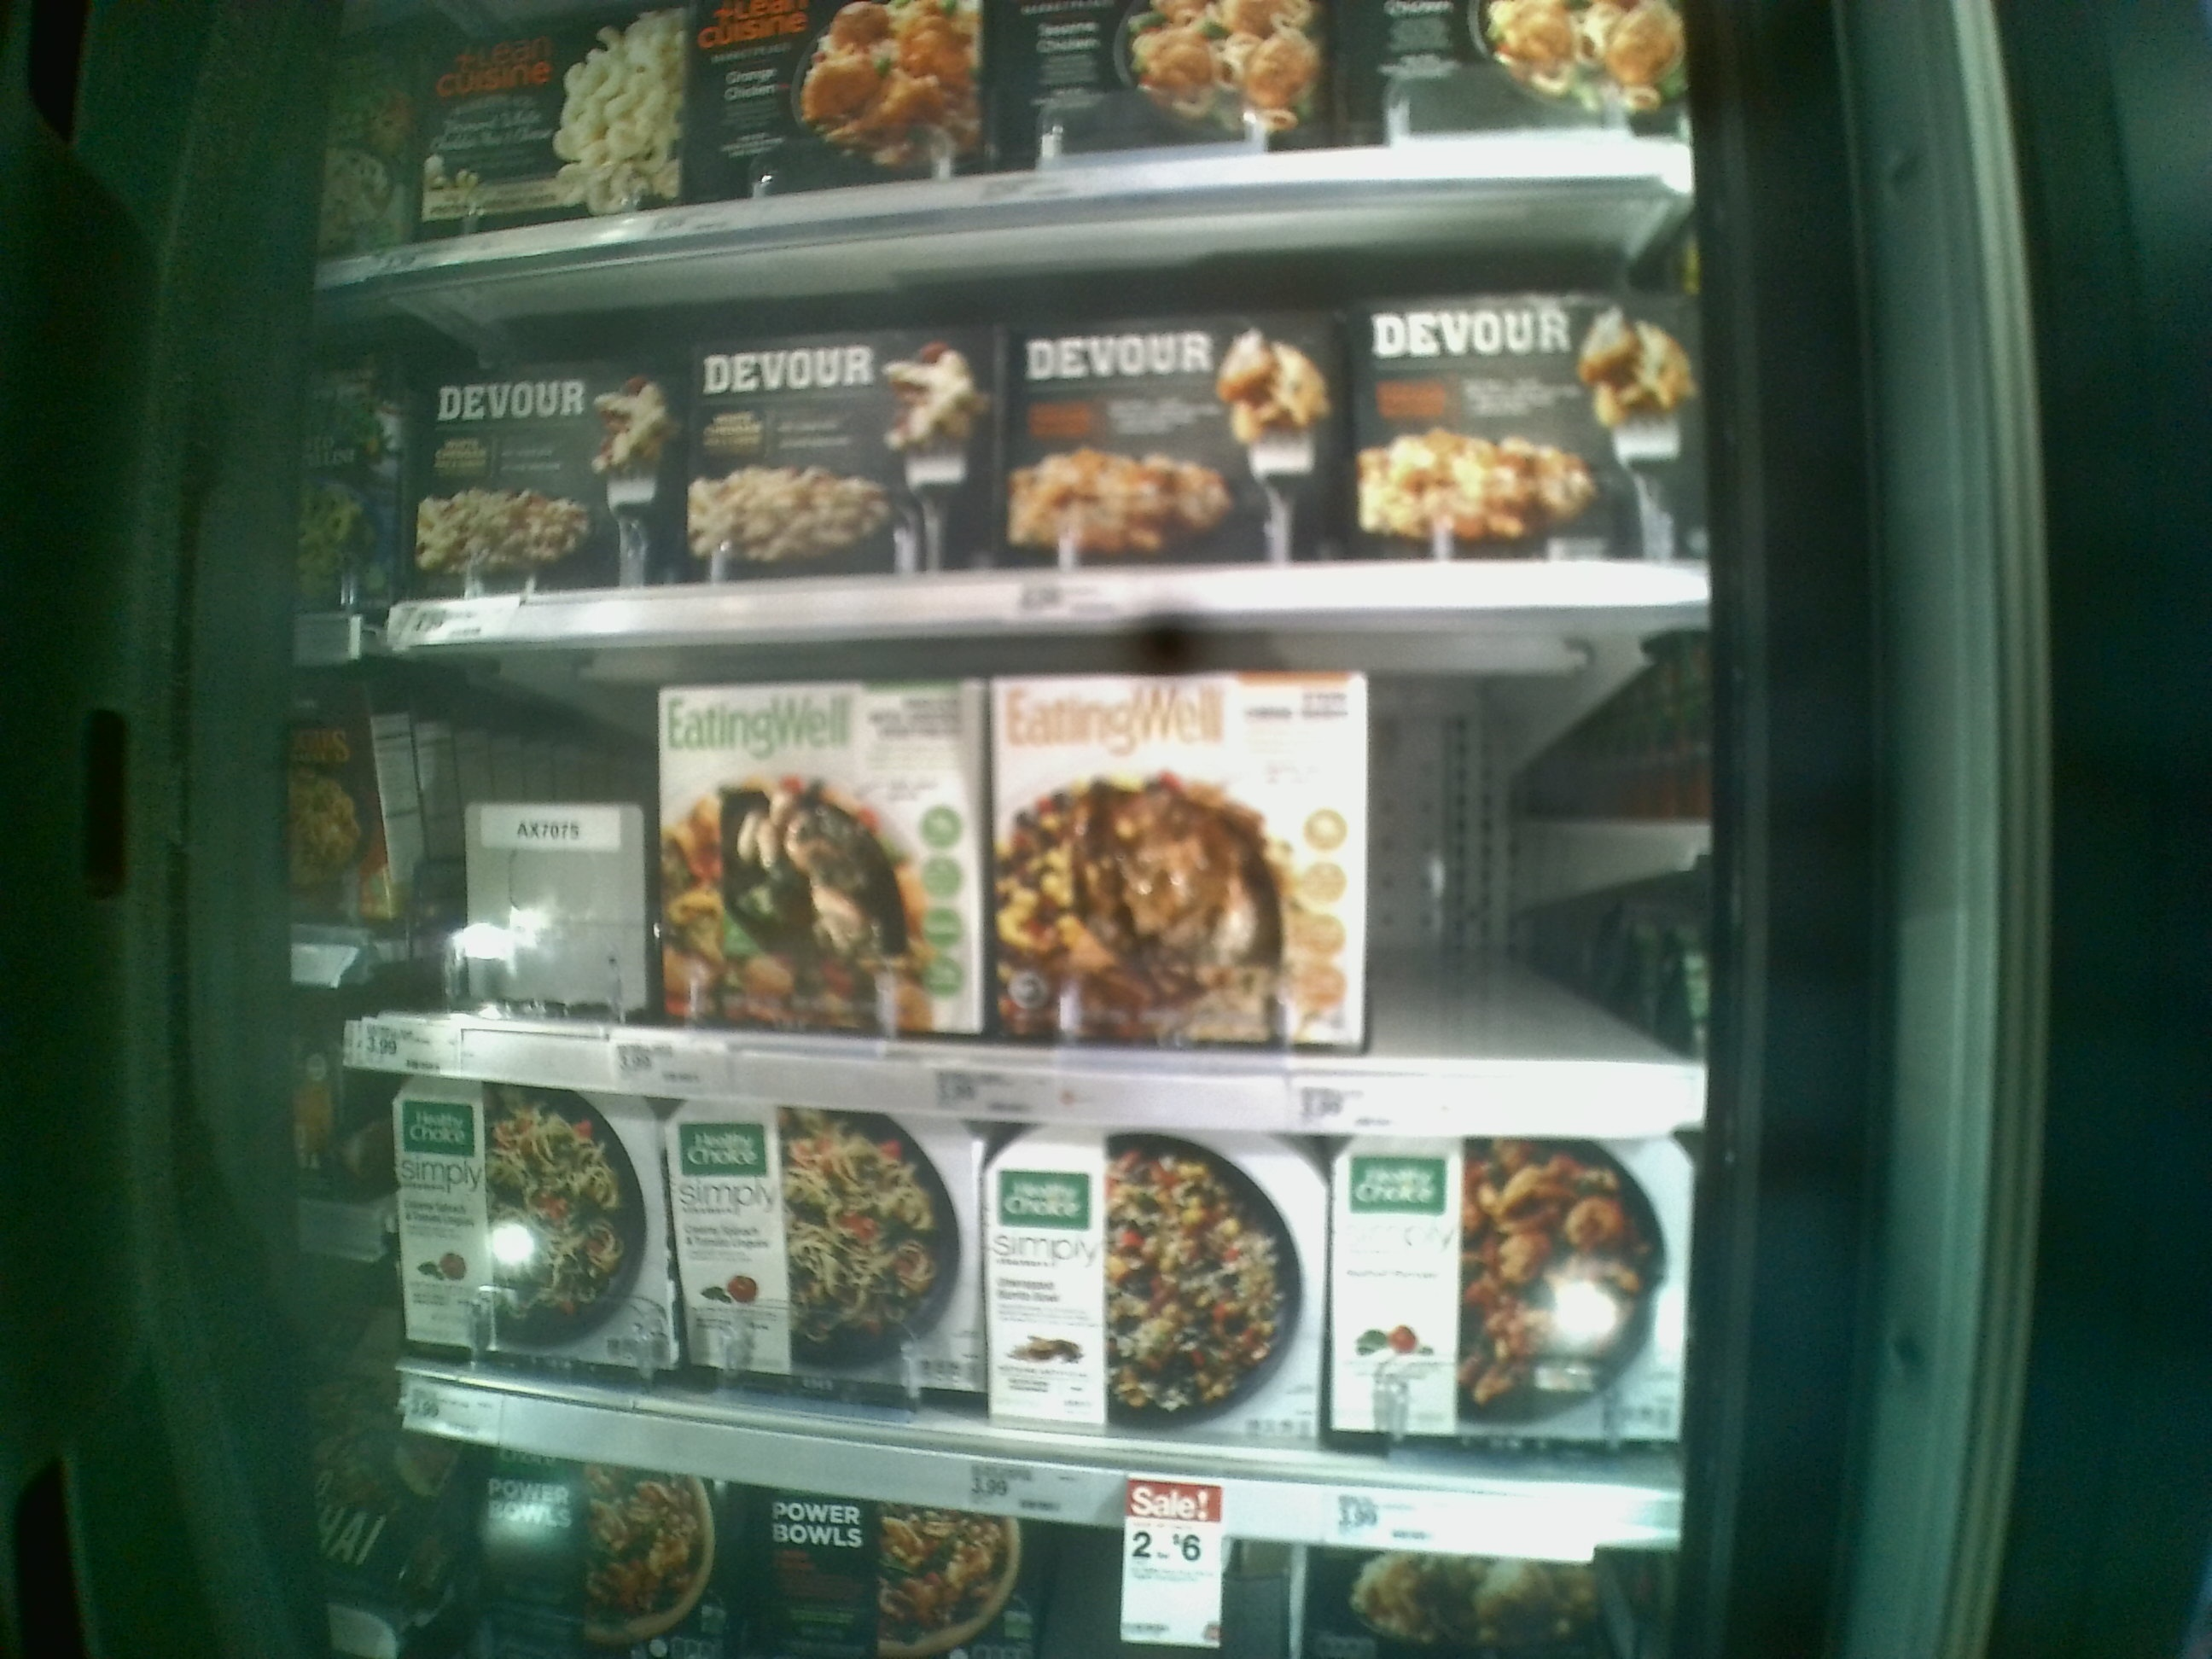pizza: (989, 676, 1366, 1039), (1322, 1134, 1686, 1459), (662, 681, 981, 1033), (995, 1129, 1313, 1441), (1355, 291, 1703, 563), (672, 1114, 989, 1406), (390, 1080, 678, 1380), (1005, 321, 1345, 556), (685, 340, 995, 566), (408, 369, 683, 598), (685, 3, 995, 174), (421, 33, 685, 221), (472, 1459, 712, 1654), (756, 1502, 1026, 1654)
